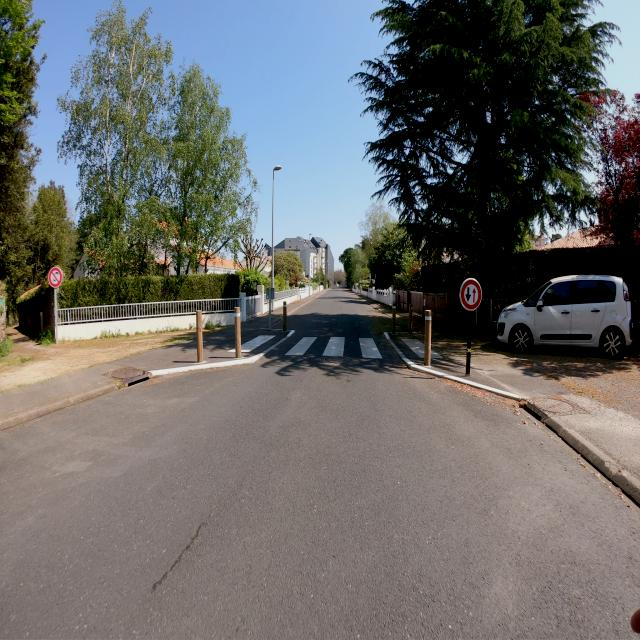car: (496, 274, 632, 359)
